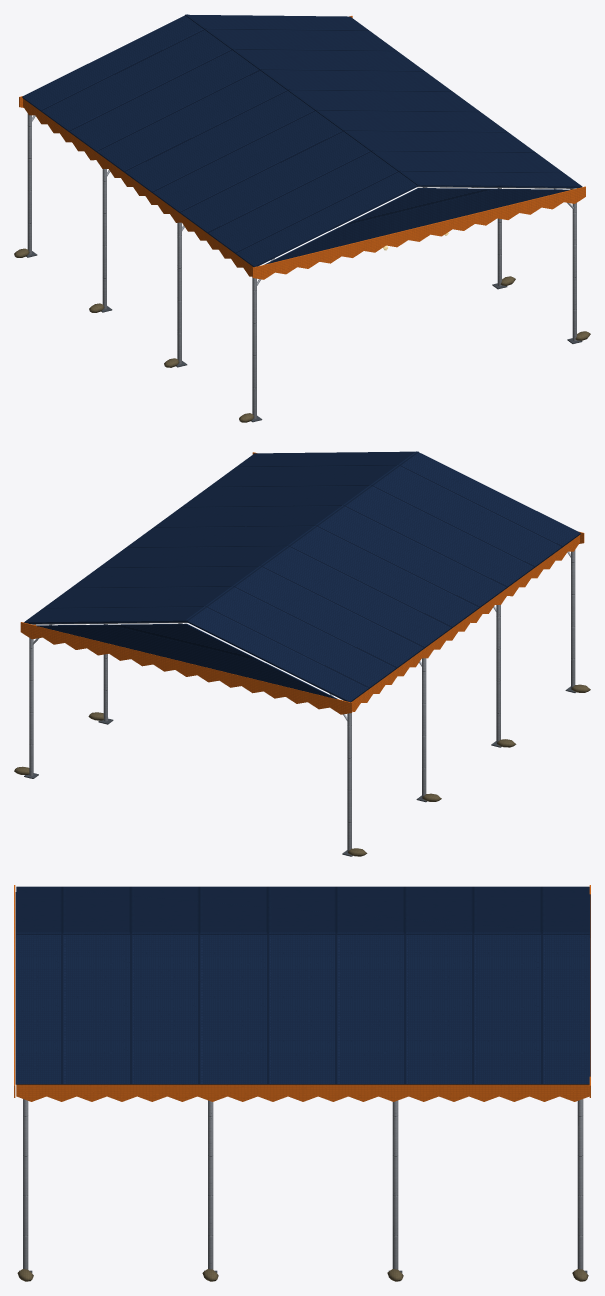
File: tenda_de_servico.glb
3 renders of one model, top to bottom at view 1: azimuth 30°, elevation 25°; view 2: azimuth 150°, elevation 25°; view 3: azimuth 270°, elevation 25°, orthographic. The views are drawn at different scales.
Visible parts, largest first — view 1: tenda_de_servico, tenda_de_servico_metal; view 2: tenda_de_servico, tenda_de_servico_metal; view 3: tenda_de_servico, tenda_de_servico_metal.
Part boxes in pixels (x1,y1,x2,y2): tenda_de_servico: (14,14,590,422); tenda_de_servico_metal: (27,113,576,419); tenda_de_servico: (14,451,590,856); tenda_de_servico_metal: (29,550,575,853); tenda_de_servico: (14,885,590,1281); tenda_de_servico_metal: (23,1099,583,1269).
Bounding box in the file's own units: 8.15 × 4.38 × 9.36.
4 materials, 2 textured.
